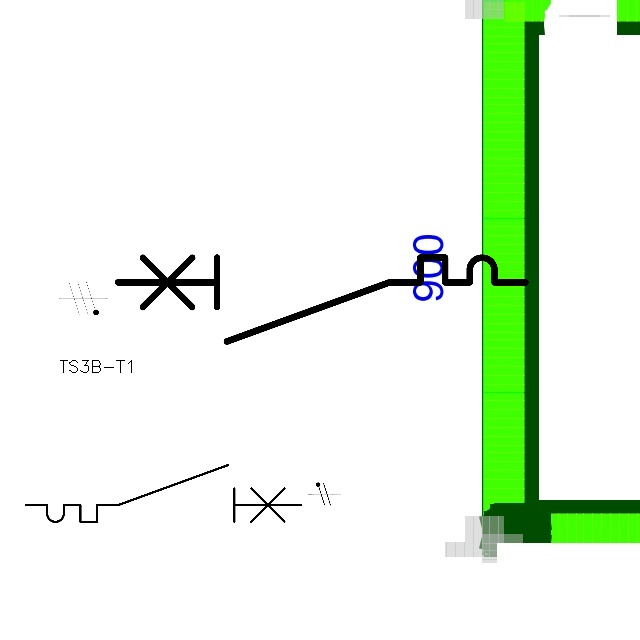interruptor_termomagnetico: (107, 247, 535, 352), (19, 458, 308, 529)
